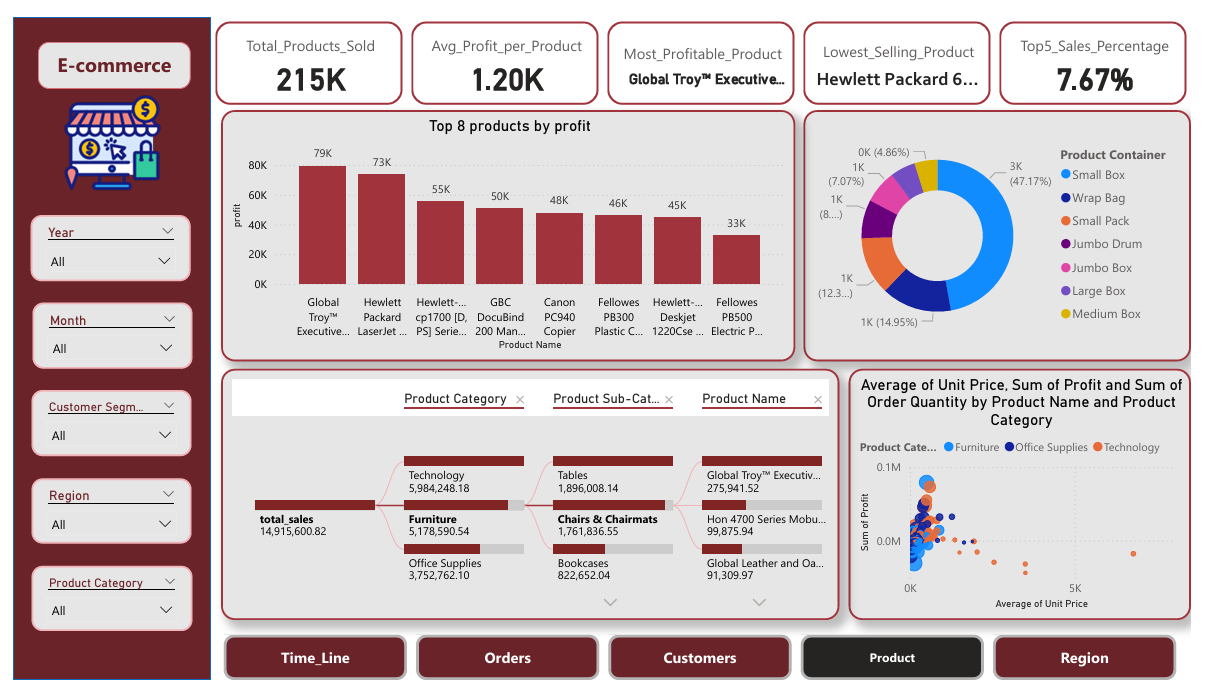

Layout of this report page (visuals, bound fields, positions):
{"tool":"powerbi","page":{"name":"Product","canvas":[1280,720],"ordinal":3},"visuals":[{"type":"cardVisual","fields":{"Data":["Dax.#quantity","Dax.Avg_Profit_per_Product","Dax.Most_Profitable_Product","Dax.Lowest_Selling_Product","Dax.Top5_Sales_Percentage"]},"box":[215.4,0,1064.8,100.2],"z":0},{"type":"shape","box":[0,0,215.4,720.4],"z":2000},{"type":"textbox","box":[27.4,27.4,166,50.8],"z":3000},{"type":"slicer","fields":{"Values":["New folder.Year"]},"box":[19.2,215.4,174.3,71.4],"z":4000},{"type":"slicer","fields":{"Values":["New folder.Order Date.Variation.Date Hierarchy.Month"]},"box":[20.6,310.5,174.3,71.4],"z":5000},{"type":"slicer","fields":{"Values":["New folder.Customer Segment"]},"box":[19.6,405.5,174.3,71.4],"z":6000},{"type":"slicer","fields":{"Values":["New folder.Region"]},"box":[19.9,500.5,174.3,71.4],"z":7000},{"type":"slicer","fields":{"Values":["New folder.Product Category"]},"box":[20.2,595.5,174.3,71.4],"z":8000},{"type":"image","box":[0,78.2,215.4,116.6],"z":9000},{"type":"donutChart","title":"Customer vs Year","fields":{"Category":["New folder.Product Container"],"Y":["Dax.#orders"]},"box":[858.9,100.6,420.9,273.6],"z":11000},{"type":"columnChart","title":"Top 8 products by profit","fields":{"Category":["New folder.Product Name"],"Y":["Dax.profit"]},"box":[225.6,100.6,624,273.3],"z":12000},{"type":"scatterChart","fields":{"X":["Avg(New folder.Unit Price)"],"Y":["Sum(New folder.Profit)"],"Size":["Sum(New folder.Order Quantity)"],"Series":["New folder.Product Category"],"Category":["New folder.Product Name"]},"box":[908,381.6,371.8,273.6],"z":13000},{"type":"decompositionTreeVisual","fields":{"Analyze":["Dax.total_sales"],"ExplainBy":["New folder.Product Category","New folder.Product Sub-Category","New folder.Product Name"]},"box":[225.8,381.6,672.4,273.6],"z":15000},{"type":"pageNavigator","box":[229.4,671.2,1038,49.1],"z":15001}]}

Visuals, with their boxes in screenshot pixels (x1, y1, x2, y2), scaled from the page's 1280x720 canvas onto the 1205x691 screenshot:
cardVisual - Dax.#quantity x Dax.Avg_Profit_per_Product: (203, 0, 1204, 96)
shape: (0, 0, 203, 690)
textbox: (26, 26, 182, 75)
slicer - New folder.Year: (18, 207, 182, 275)
slicer - New folder.Order Date.Variation.Date Hierarchy.Month: (19, 298, 183, 367)
slicer - New folder.Customer Segment: (18, 389, 183, 458)
slicer - New folder.Region: (19, 480, 183, 549)
slicer - New folder.Product Category: (19, 572, 183, 640)
image: (0, 75, 203, 187)
"Customer vs Year" donutChart: (809, 97, 1204, 359)
"Top 8 products by profit" columnChart: (212, 97, 800, 359)
scatterChart - Avg(New folder.Unit Price) x Sum(New folder.Profit): (855, 366, 1204, 629)
decompositionTreeVisual - Dax.total_sales x New folder.Product Category: (213, 366, 846, 629)
pageNavigator: (216, 644, 1193, 690)
